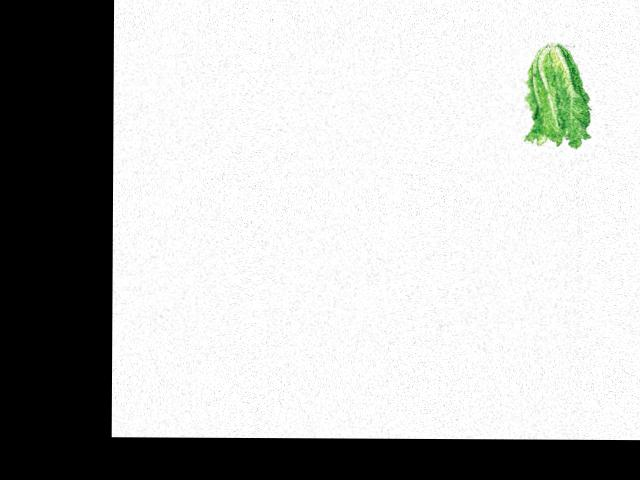lettuce: (521, 44, 592, 149)
